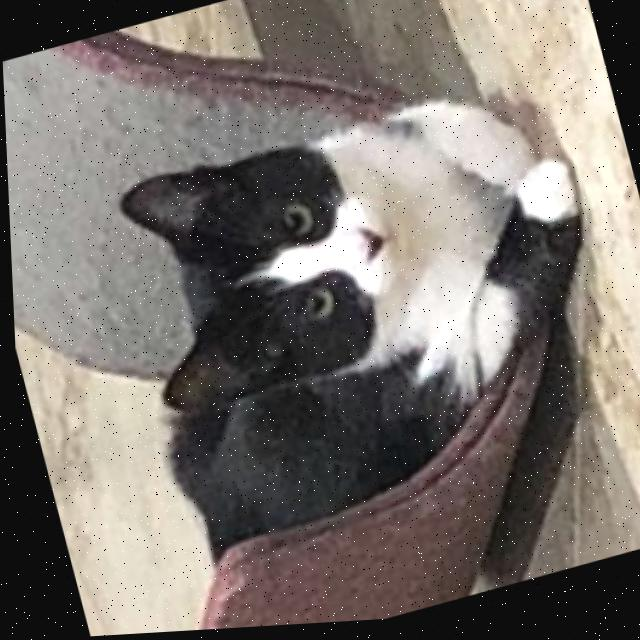Tuxedo: (86, 65, 639, 567)
